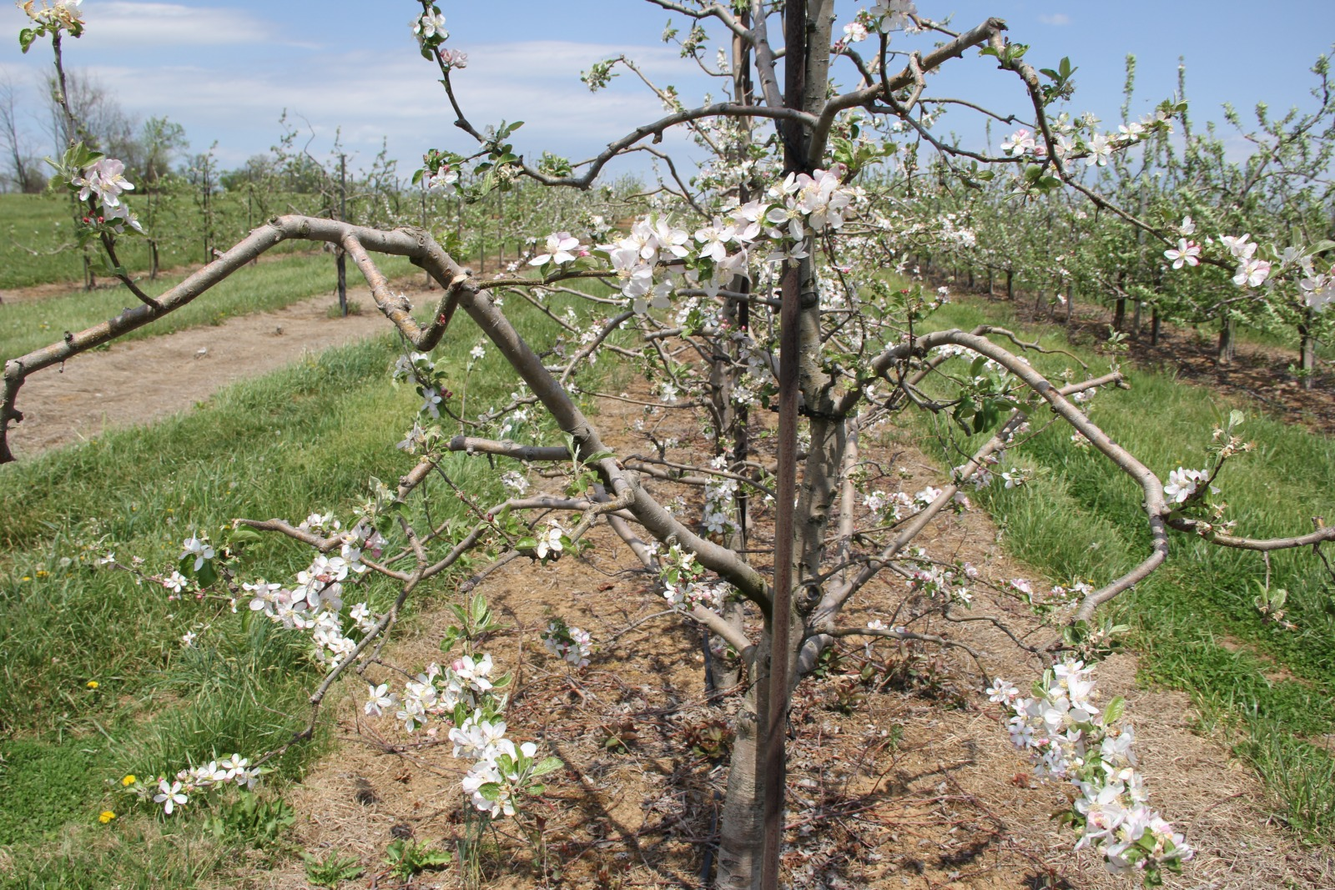flower: (239, 524, 390, 668), (1064, 719, 1193, 874), (985, 656, 1104, 788), (766, 158, 869, 275), (695, 196, 783, 299), (611, 212, 688, 317), (449, 721, 516, 818), (72, 158, 143, 234), (441, 653, 494, 710), (188, 754, 261, 792), (1220, 234, 1271, 288), (1086, 123, 1147, 168), (396, 673, 438, 733), (664, 579, 731, 615), (1294, 254, 1335, 310), (543, 628, 596, 670), (703, 479, 742, 536), (408, 6, 450, 50), (529, 231, 580, 266), (1164, 467, 1209, 503), (870, 0, 918, 33), (738, 343, 774, 386), (178, 530, 215, 571), (364, 684, 405, 717), (154, 777, 188, 814), (423, 167, 459, 199), (863, 490, 909, 515), (1165, 238, 1202, 269), (1001, 128, 1035, 157), (350, 601, 378, 634), (537, 529, 563, 559), (420, 388, 442, 421), (53, 0, 83, 23), (965, 469, 994, 492), (295, 511, 329, 530), (396, 426, 420, 451), (842, 22, 869, 44), (164, 571, 191, 593), (676, 546, 698, 571), (914, 566, 945, 583), (440, 49, 469, 67), (915, 486, 943, 504), (731, 385, 758, 403), (700, 311, 725, 330), (1139, 111, 1166, 128), (668, 265, 698, 280), (392, 355, 411, 378), (660, 382, 679, 405), (1010, 579, 1035, 596), (957, 586, 981, 603), (864, 640, 883, 661), (1055, 140, 1076, 158), (642, 541, 663, 559), (1002, 473, 1025, 489), (953, 491, 971, 510), (183, 629, 203, 646), (1180, 216, 1196, 237), (964, 561, 980, 581), (521, 742, 542, 757), (712, 453, 728, 472), (892, 506, 912, 521), (470, 343, 486, 360), (867, 620, 888, 630), (730, 329, 748, 340), (1283, 247, 1295, 262), (889, 625, 906, 635), (788, 304, 798, 319), (1210, 485, 1222, 495), (950, 468, 959, 479), (335, 520, 341, 530), (909, 499, 917, 503), (801, 276, 803, 284), (405, 370, 411, 372)
